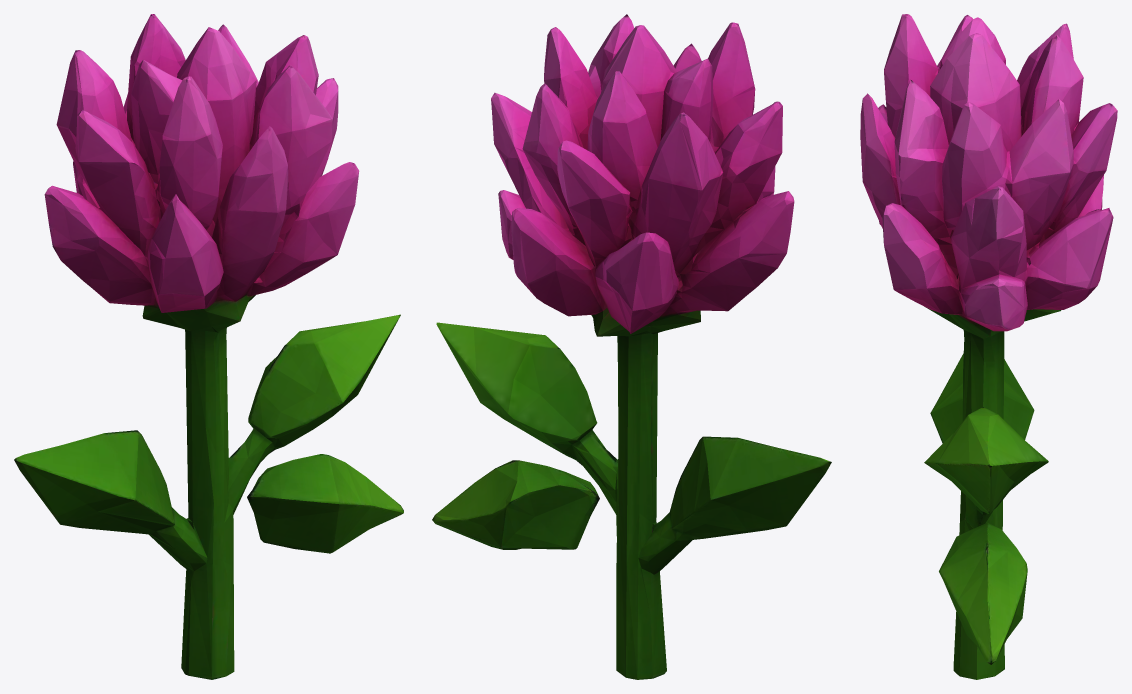
The model's file is red_clover.glb.
The picture shows the model from 3 angles, left to right: view 1: azimuth 30°, elevation 25°; view 2: azimuth 150°, elevation 25°; view 3: azimuth 270°, elevation 25°; orthographic projection.
Visible parts, largest first — view 1: world; view 2: world; view 3: world.
Part boxes in pixels (x1,y1,x2,y2): world: (14, 14, 403, 679); world: (432, 14, 831, 679); world: (860, 14, 1117, 679).
Bounding box in the file's own units: 0.6452 × 1 × 0.3671.
Materials: 1 (1 with a texture image).
